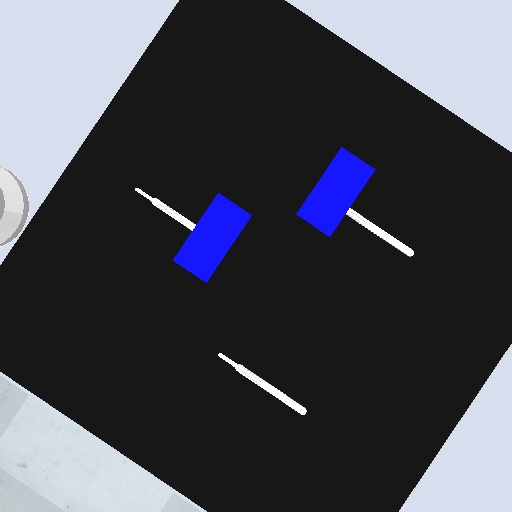bisturi: (214, 349, 312, 420), (344, 206, 419, 260), (131, 184, 199, 233)
